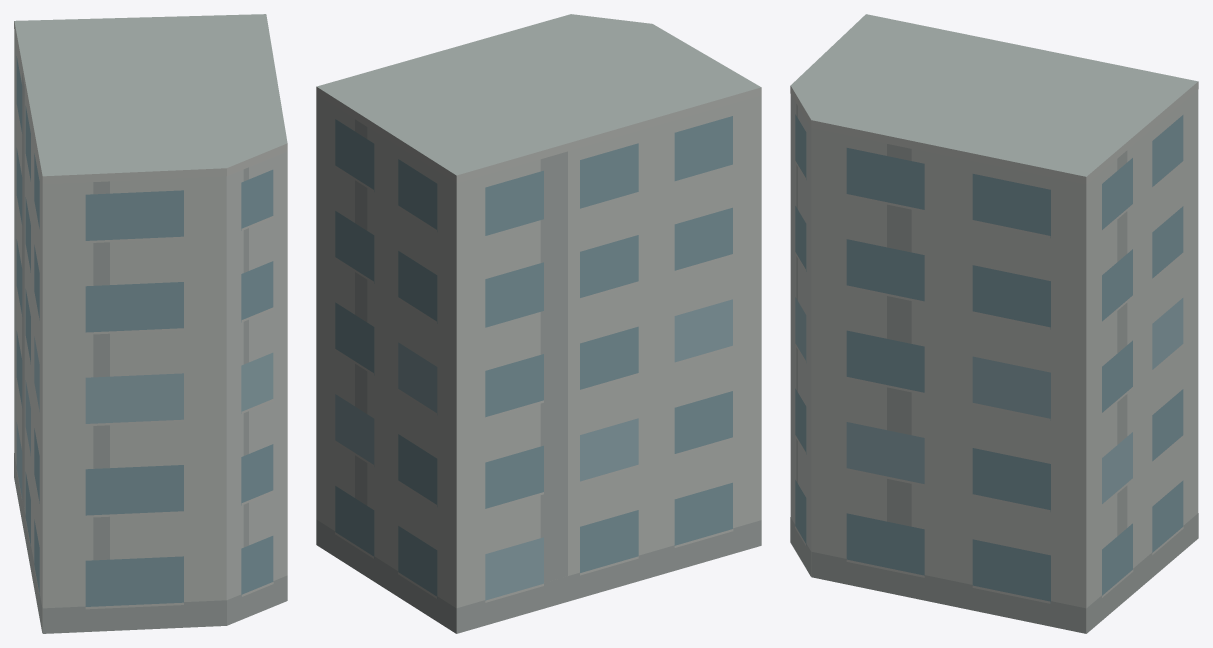
Rendered from survey-upis-32728726.glb.
3 views of the same model, side by side, from view 1: azimuth 30°, elevation 25°; view 2: azimuth 150°, elevation 25°; view 3: azimuth 270°, elevation 25° (orthographic).
Parts seen in each view (by area): view 1: survey-upis-32728726.tmp; view 2: survey-upis-32728726.tmp; view 3: survey-upis-32728726.tmp.
Boxes of the visible parts, left/top/right/bottom form: survey-upis-32728726.tmp: left=14, top=14, right=287, bottom=633; survey-upis-32728726.tmp: left=316, top=14, right=761, bottom=633; survey-upis-32728726.tmp: left=790, top=14, right=1198, bottom=633.
Size of the model in its own units: 10.55 by 13.8 by 11.17.
